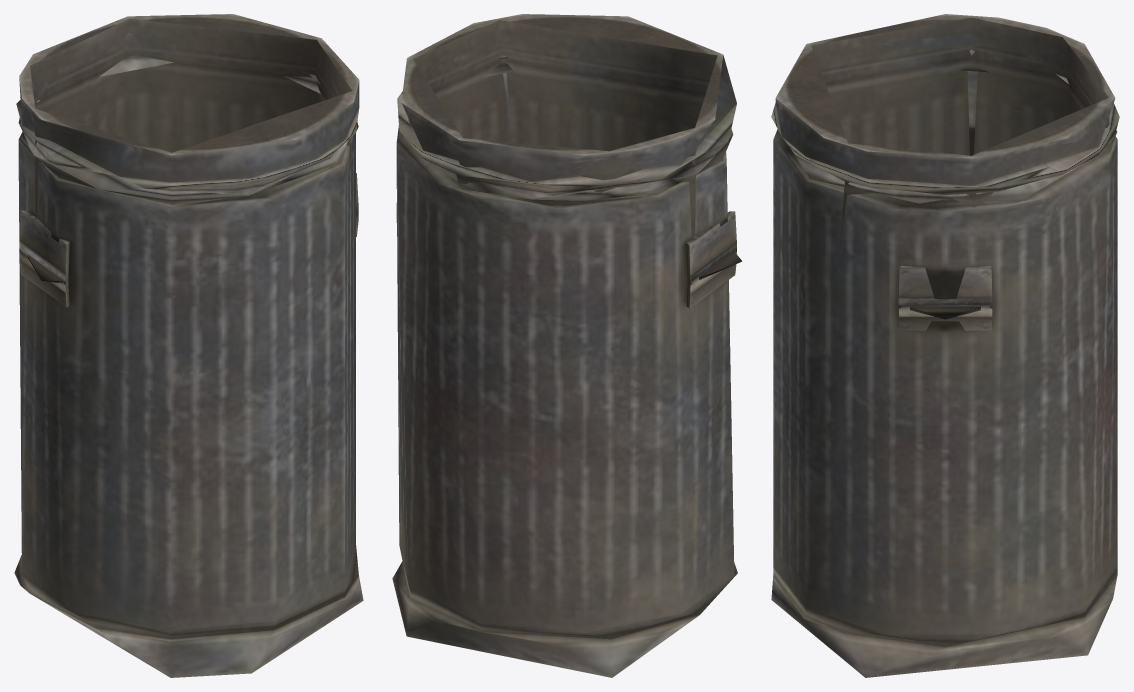
File: trash_can.glb
The picture shows the model from 3 angles, left to right: view 1: azimuth 30°, elevation 25°; view 2: azimuth 150°, elevation 25°; view 3: azimuth 270°, elevation 25°; orthographic projection.
Size of the model in its own units: 0.589 by 0.9062 by 0.5453.
Materials: 1 (1 with a texture image).
